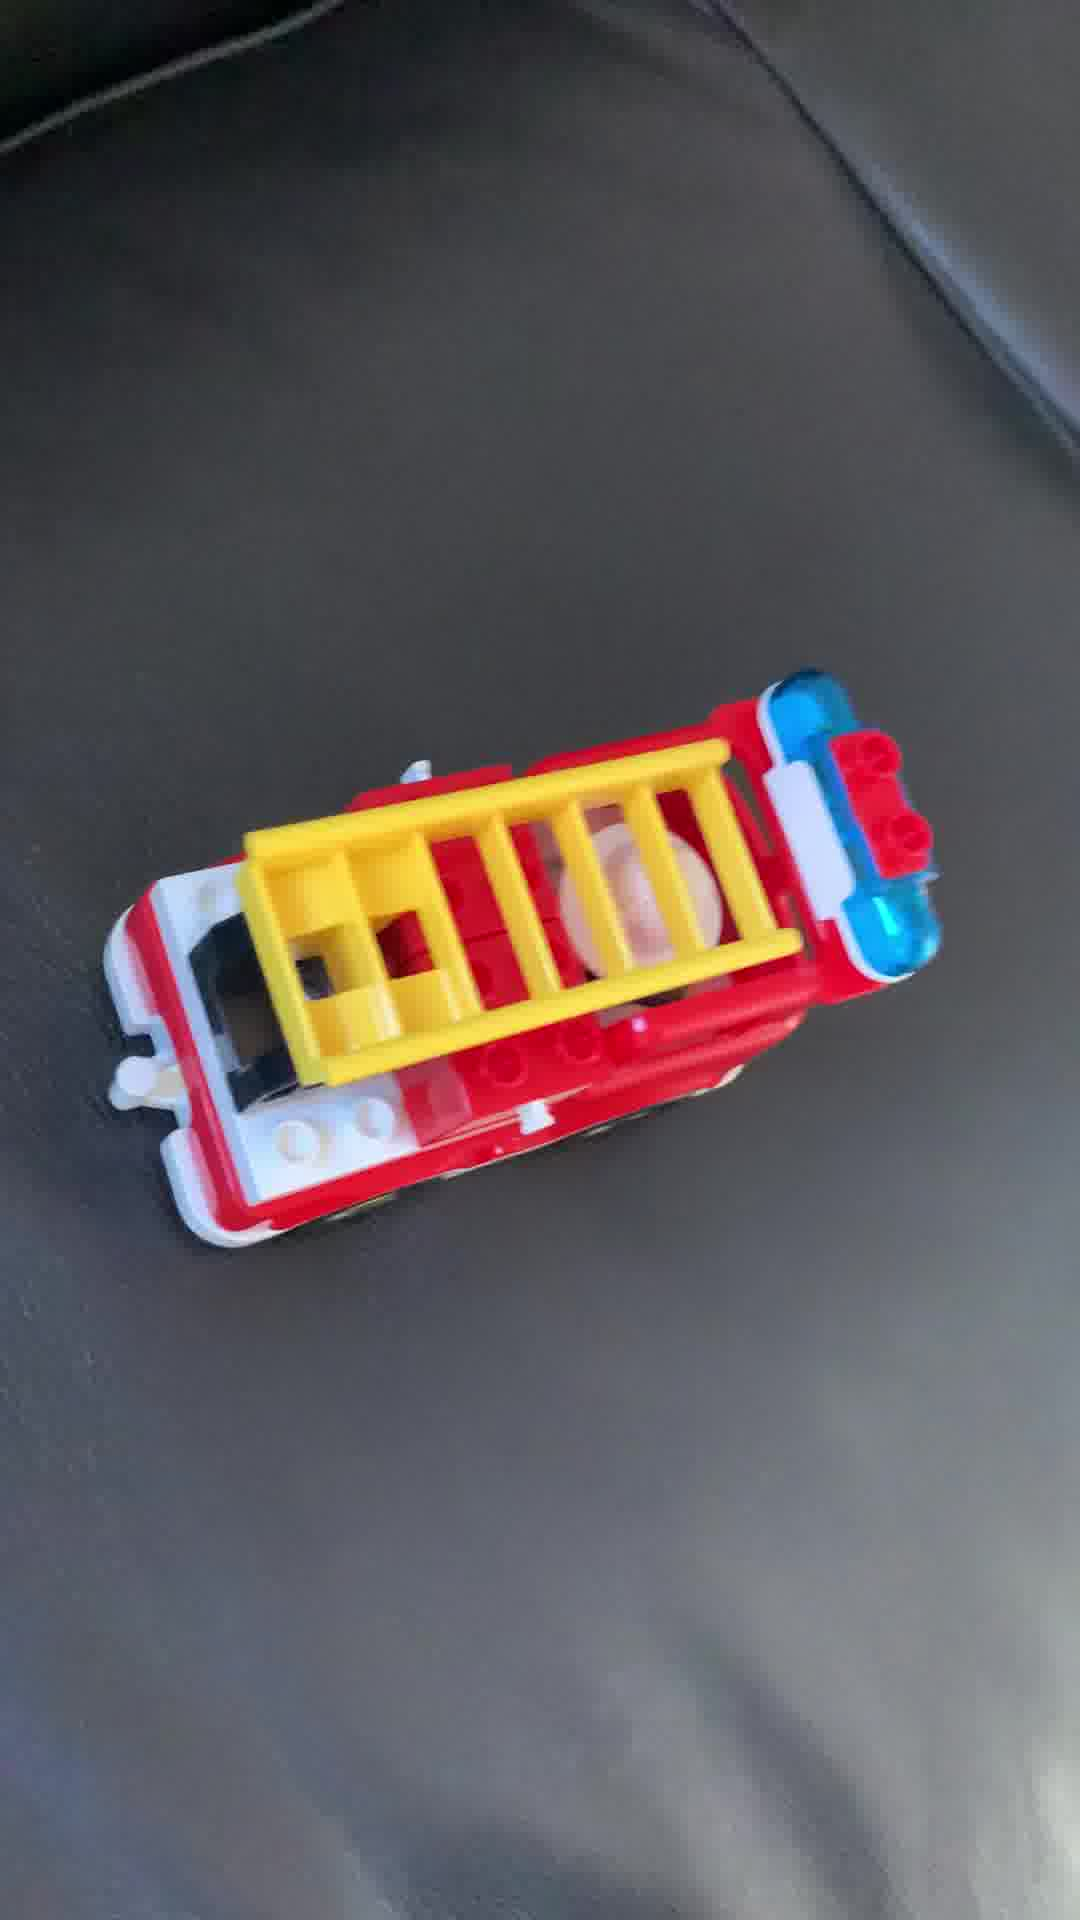lego fire truck: (95, 665, 956, 1265)
